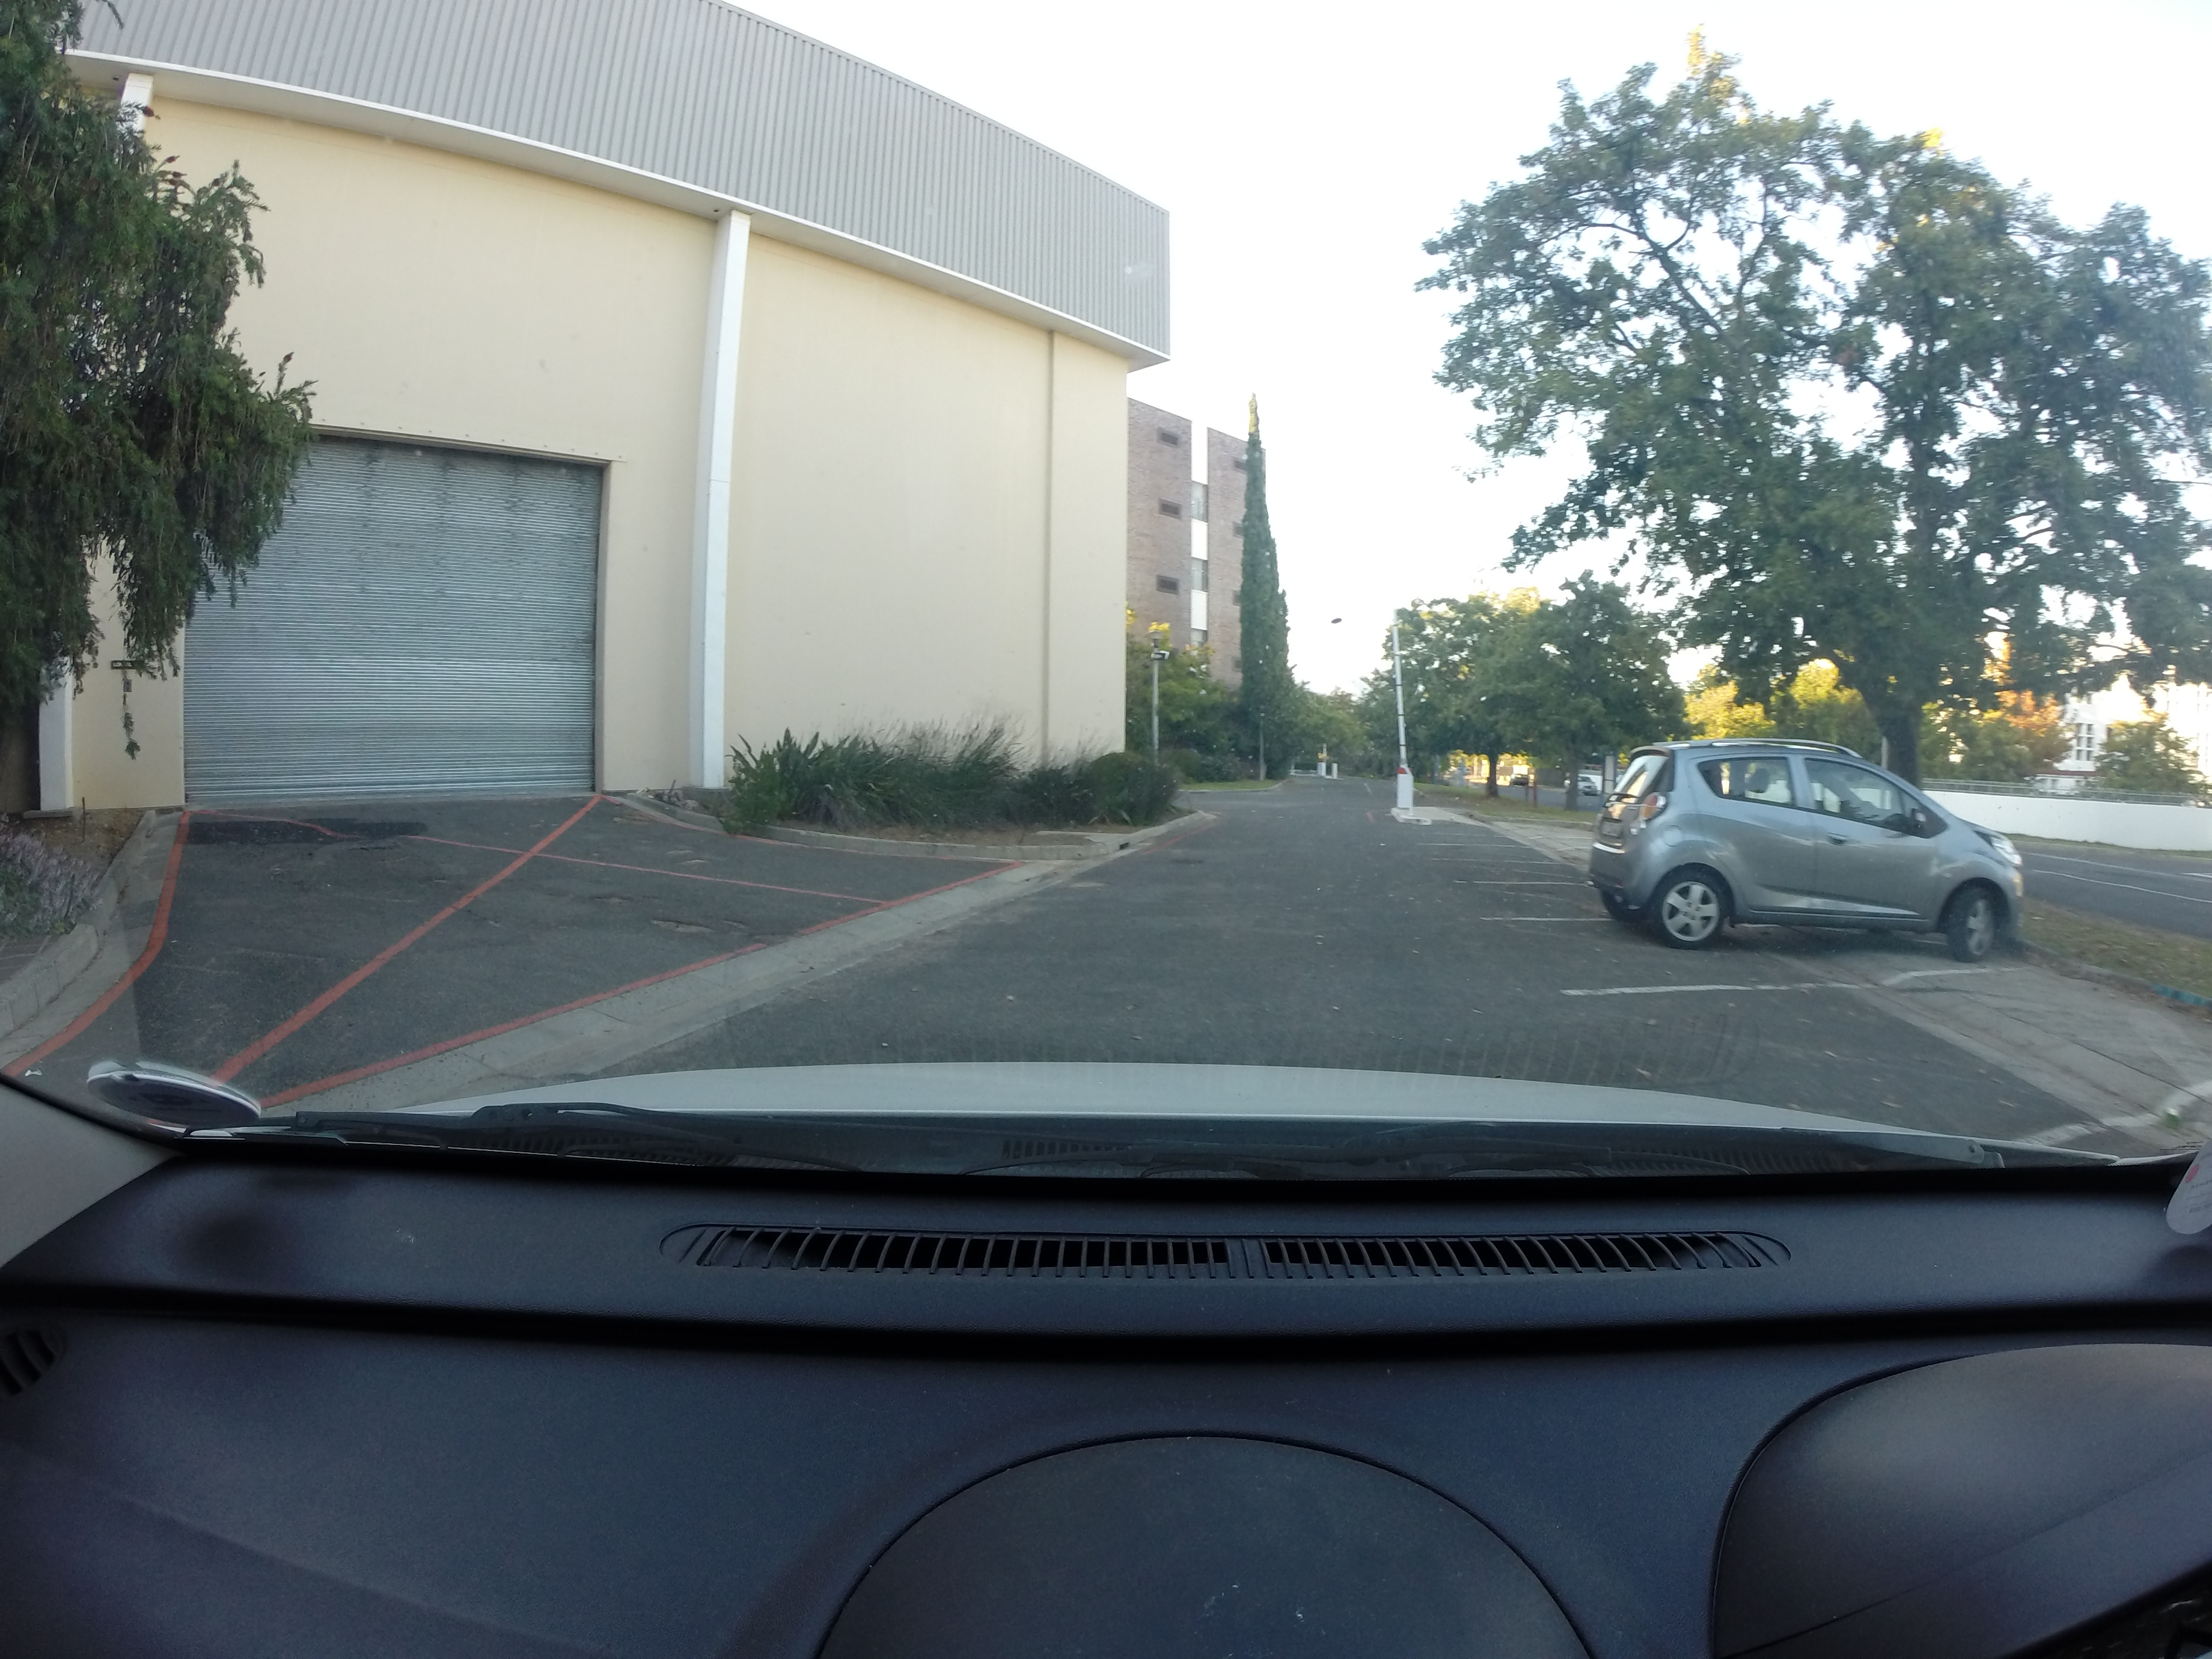pothole: (632, 903, 740, 945), (575, 884, 643, 910)
